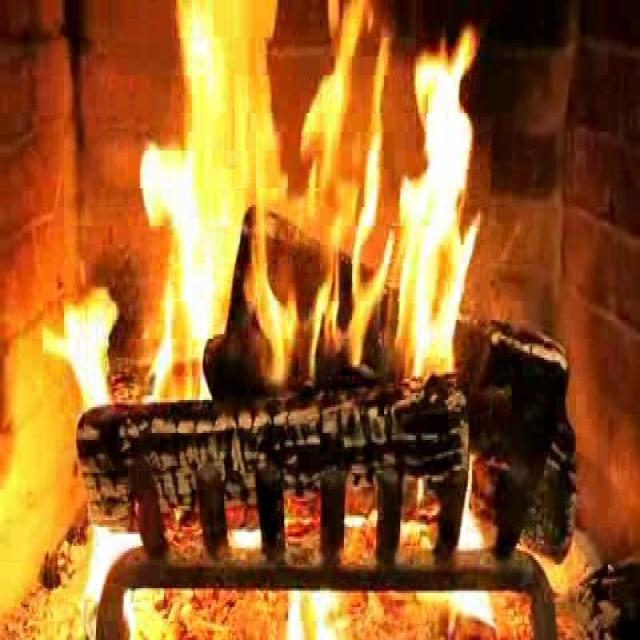fire: (132, 2, 490, 415)
